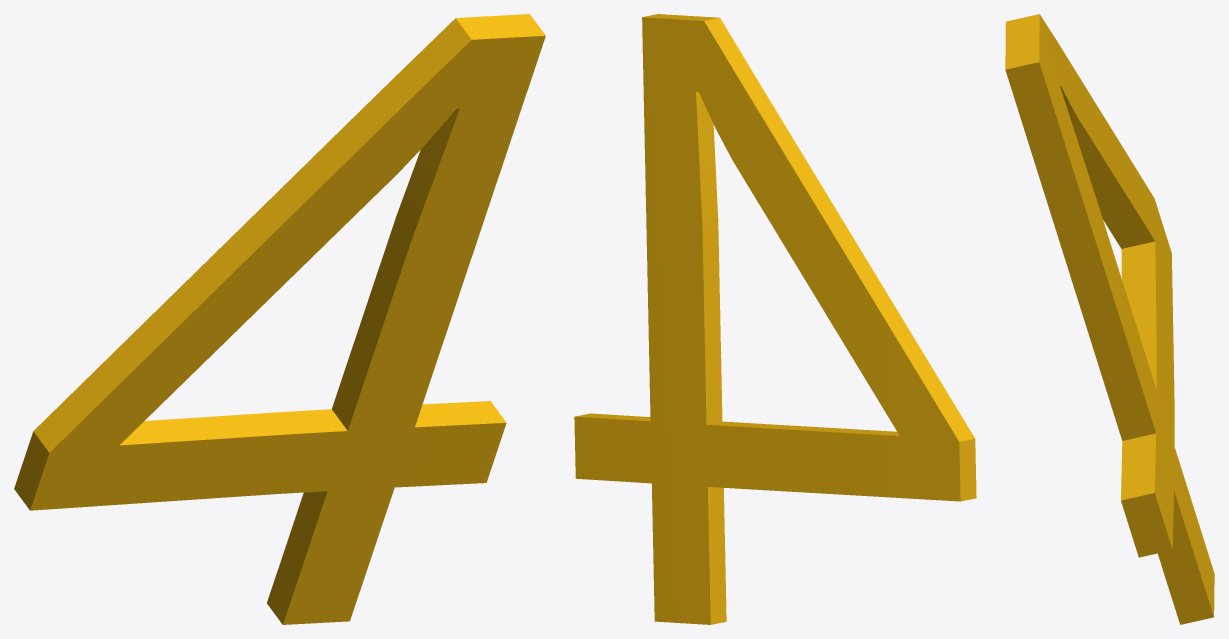
File: Number_4.gltf
3 views of the same model, side by side, from view 1: azimuth 30°, elevation 25°; view 2: azimuth 150°, elevation 25°; view 3: azimuth 270°, elevation 25° (orthographic). The views are drawn at different scales.
Parts seen in each view (by area): view 1: Sub_3_Cell_2_3_Number_4; view 2: Sub_3_Cell_2_3_Number_4; view 3: Sub_3_Cell_2_3_Number_4.
Boxes of the visible parts, x1,y1,x2,y2 form: Sub_3_Cell_2_3_Number_4: [14, 14, 545, 624]; Sub_3_Cell_2_3_Number_4: [574, 14, 976, 624]; Sub_3_Cell_2_3_Number_4: [1005, 14, 1214, 624].
Size of the model in its own units: 0.0189 by 0.025 by 0.00757.
